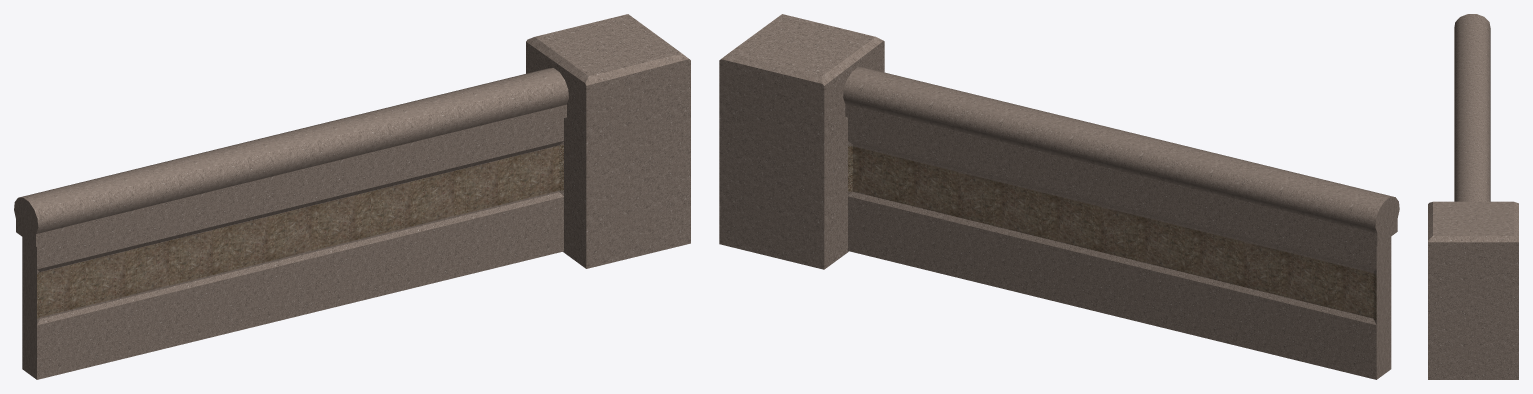
The model's file is Wall.FBX.
The picture shows the model from 3 angles, left to right: view 1: azimuth 30°, elevation 25°; view 2: azimuth 150°, elevation 25°; view 3: azimuth 270°, elevation 25°; orthographic projection. The views are drawn at different scales.
Visible parts, largest first — view 1: Cylinder002, Box001, Object002; view 2: Cylinder002, Box001, Object002; view 3: Box001, Cylinder002.
Part boxes in pixels (x1,y1,x2,y2): Cylinder002: [14, 68, 568, 379]; Box001: [526, 14, 690, 268]; Object002: [37, 141, 563, 325]; Cylinder002: [843, 67, 1399, 379]; Box001: [719, 14, 884, 269]; Object002: [848, 140, 1376, 325]; Box001: [1428, 201, 1518, 379]; Cylinder002: [1454, 14, 1490, 201].
Bounding box in the file's own units: 13033 × 3706 × 2146.
2 materials, 2 textured.
